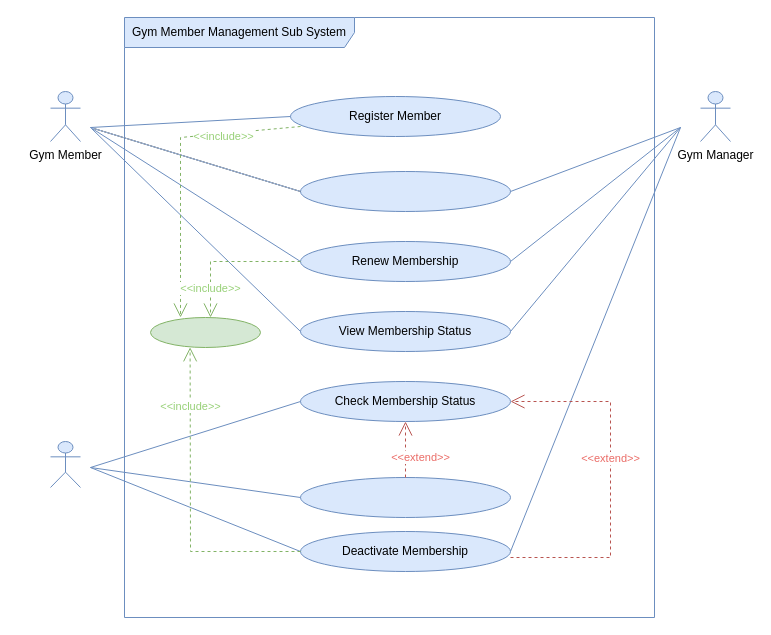
The diagram is 771 pixels wide and 635 high, and some of its shapes have lost their labels. Here are the shapes that lost their labels. From the top down, the centre of each, then its label:
At point (405, 191): "Update Member Profile".
At point (205, 332): "send notification".
At point (65, 464): "System Scheduler".
At point (405, 497): "Send Renewal Reminder".
